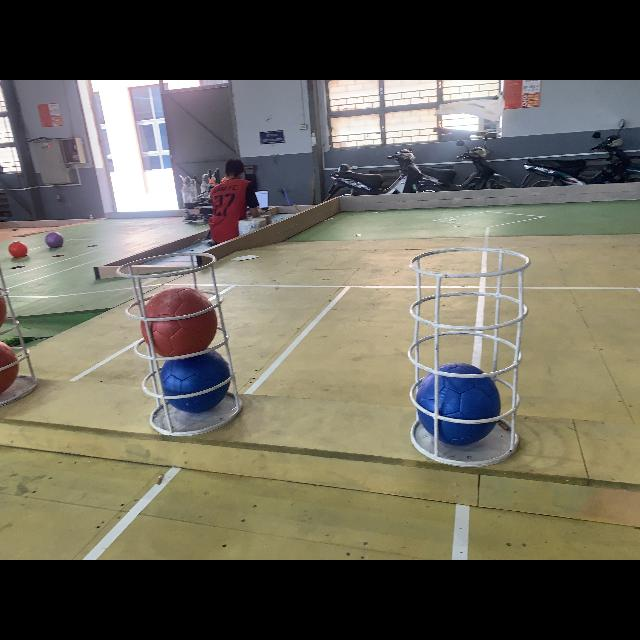B: (418, 362, 502, 448), (160, 348, 232, 414)
R: (142, 286, 218, 358), (1, 342, 20, 394), (1, 288, 8, 334)
